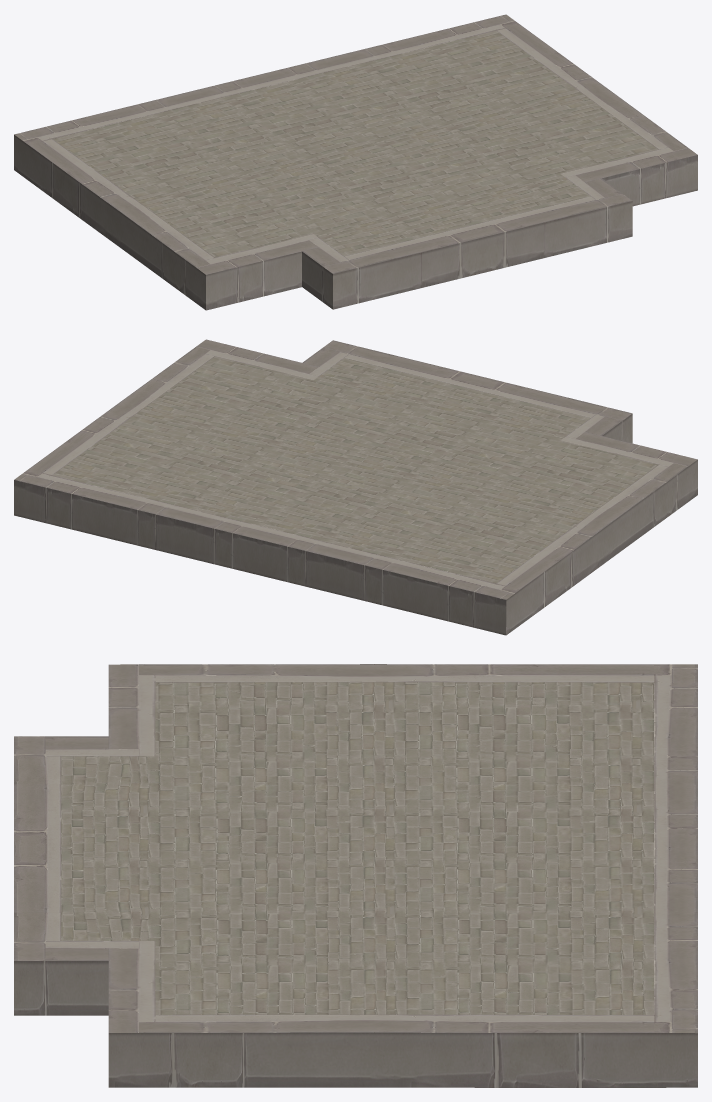
File: mod_zlc_jianzhu064_xy01.FBX
3 renders of one model, top to bottom at view 1: azimuth 30°, elevation 25°; view 2: azimuth 150°, elevation 25°; view 3: azimuth 270°, elevation 25°, orthographic. The views are drawn at different scales.
Parts seen in each view (by area): view 1: mod_zlc_jianzhu064_xy01; view 2: mod_zlc_jianzhu064_xy01; view 3: mod_zlc_jianzhu064_xy01.
Boxes of the visible parts, x1,y1,x2,y2 form: mod_zlc_jianzhu064_xy01: (14, 14, 697, 310); mod_zlc_jianzhu064_xy01: (14, 339, 697, 635); mod_zlc_jianzhu064_xy01: (14, 664, 697, 1087).
Bounding box in the file's own units: 1479 × 103 × 1160.
Materials: 2 (2 with a texture image).
